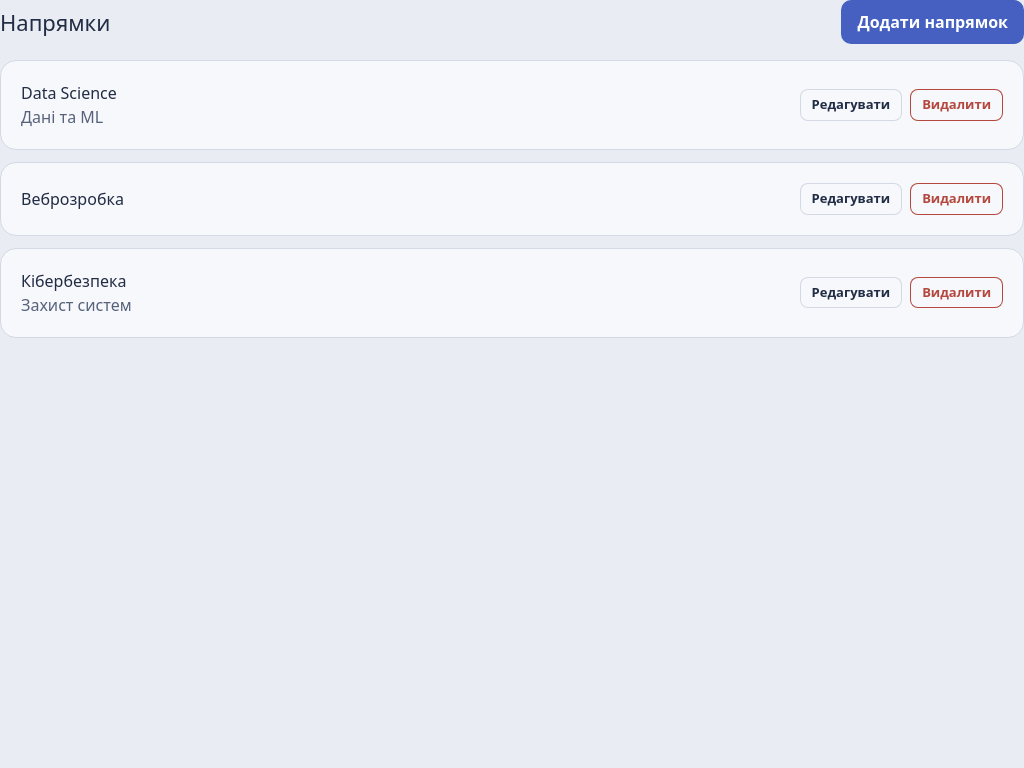
it: тости успіху в адмінці › DIRECTION_IN_USE тосту не дає
Click the button "Видалити" in the row of "Захист систем": point(957, 293) [910,277,1003,308]
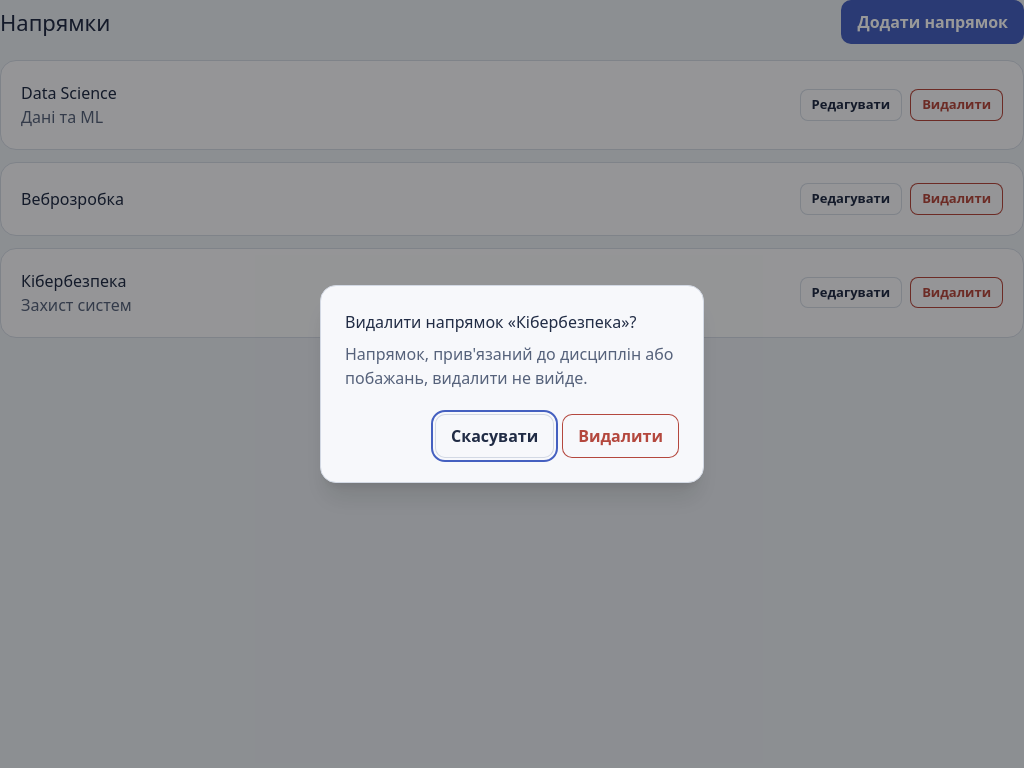
Click the button "Видалити": point(621, 436) [562,414,679,458]
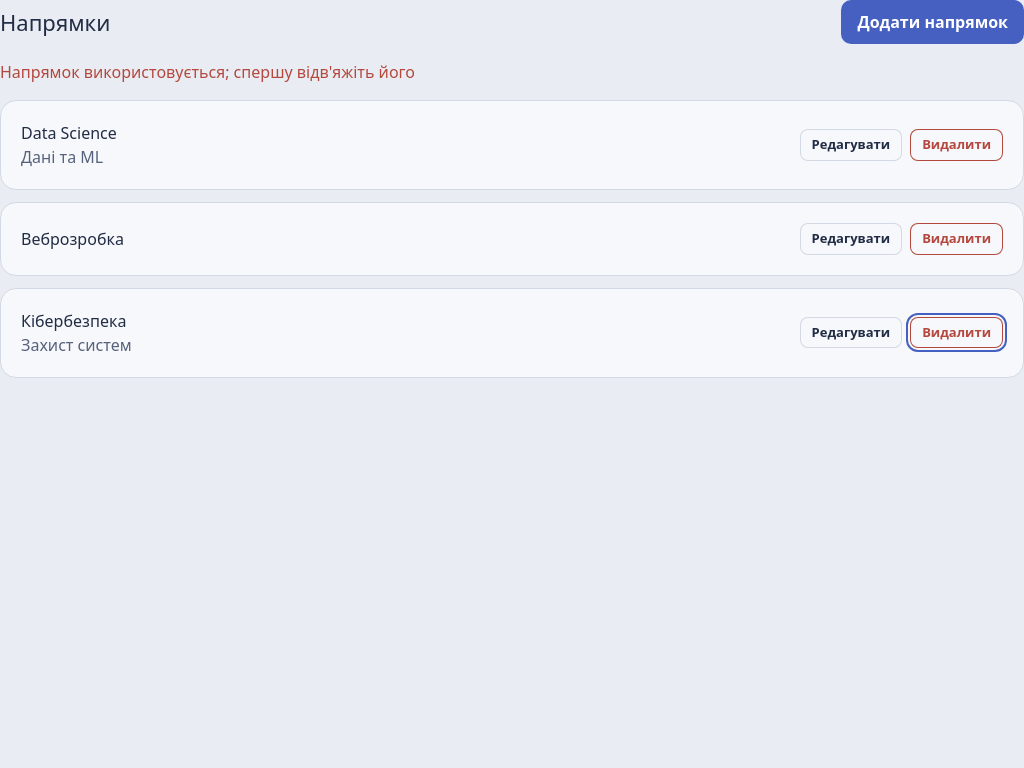
Result: the message "Напрямок використовується; спершу відв'яжіть його" is shown at [0,61,415,83]
